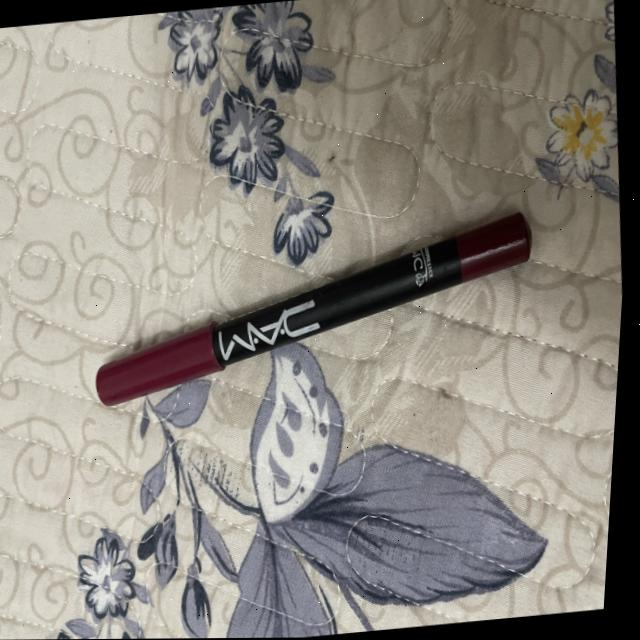lip liner: (88, 201, 544, 405)
